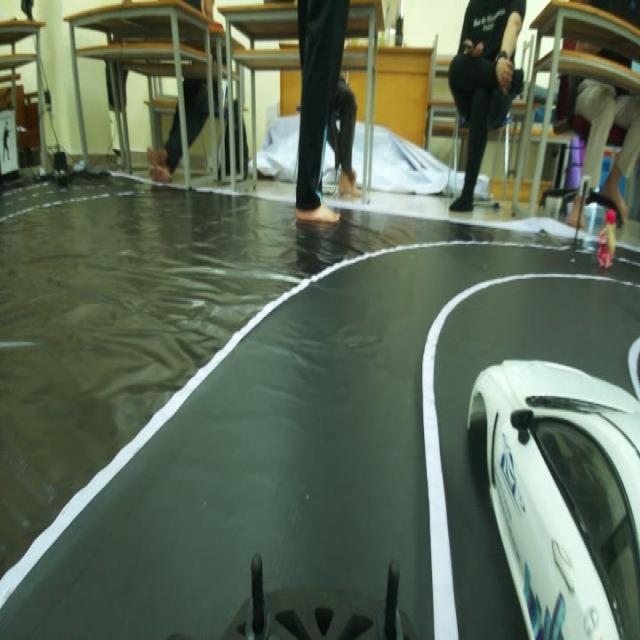car: (457, 310, 640, 640)
